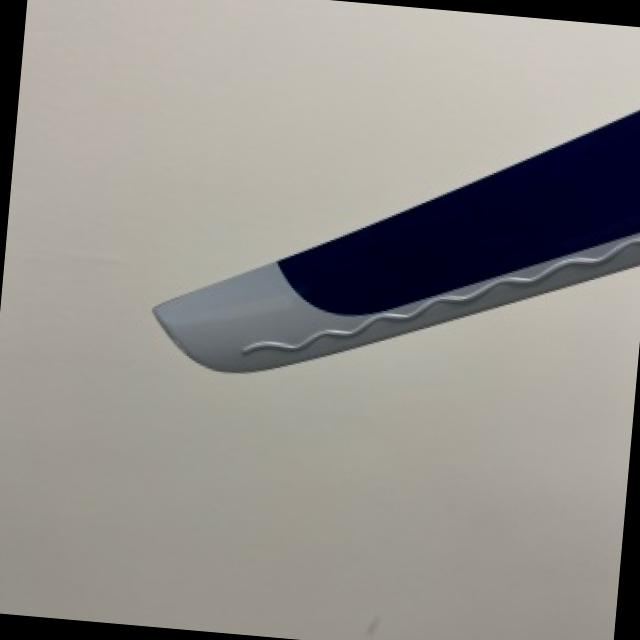healthy: (152, 107, 640, 370)
